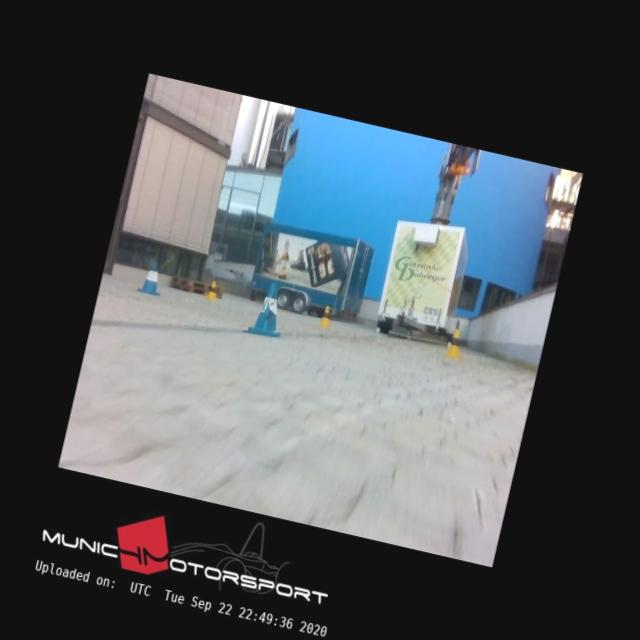blue_cone: (244, 278, 292, 339), (136, 260, 166, 296)
yellow_cone: (444, 328, 465, 359), (318, 305, 334, 328), (206, 281, 220, 300)
